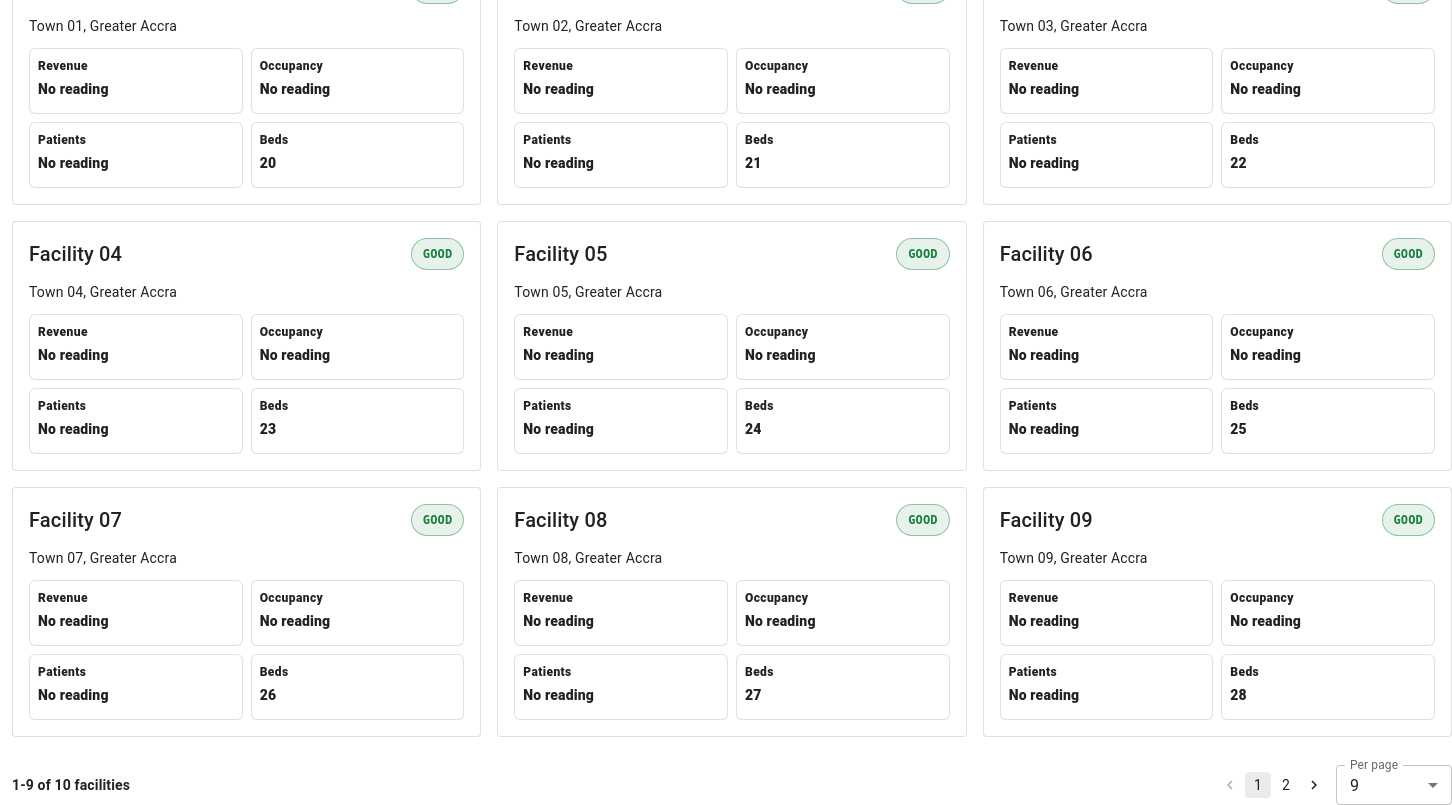
Test: NetworkOverview › paginates facility cards when the network grows
(page scrolled)
Expected: the text "Facility 10" is not shown
Expected: the text "1-9 of 10 facilities" is shown, [12,775,130,795]
Click the button named "go to page 2" at (1286, 785), box [1273,772,1299,798]
(page scrolled)
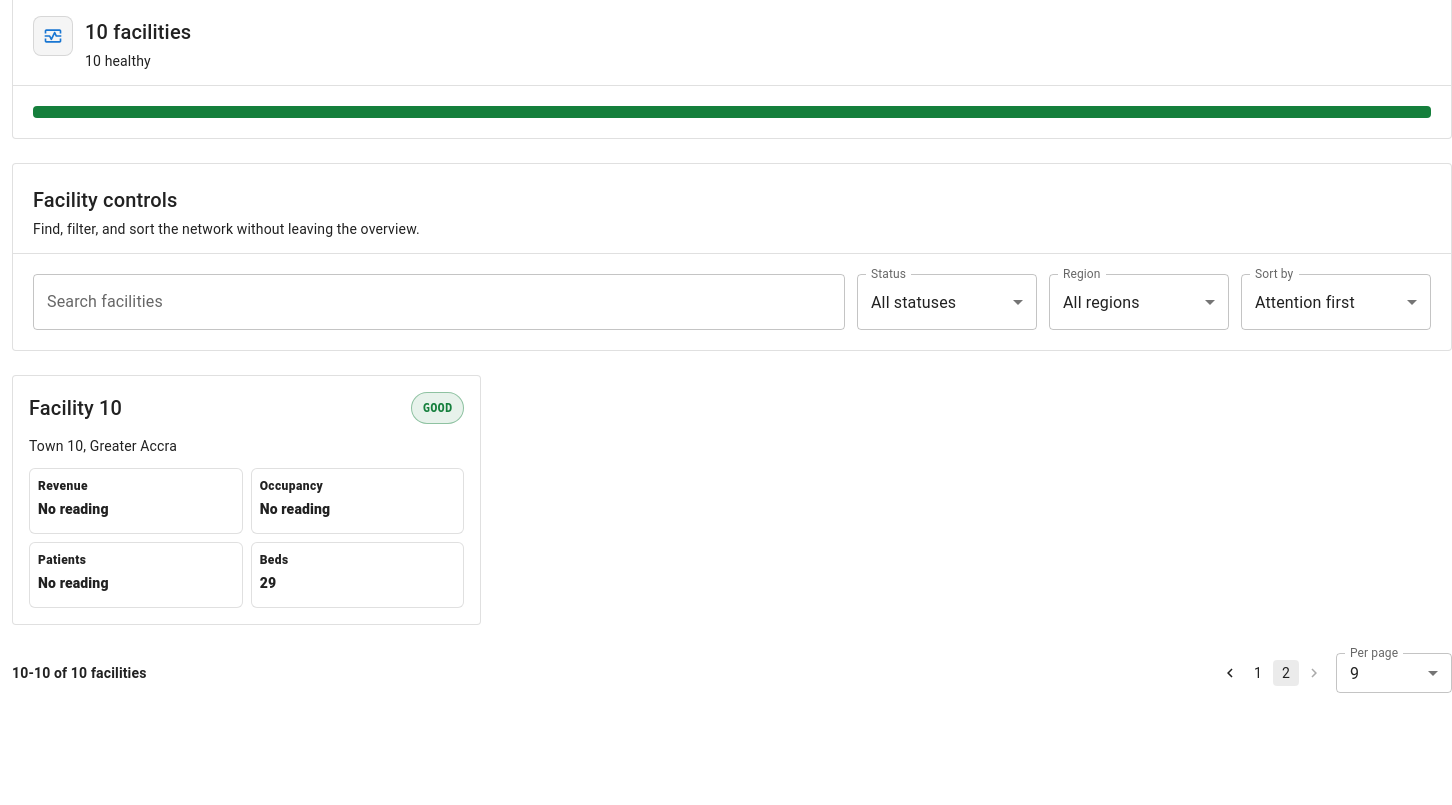
Expected: the heading "Facility 10" is shown, [29,392,122,424]
